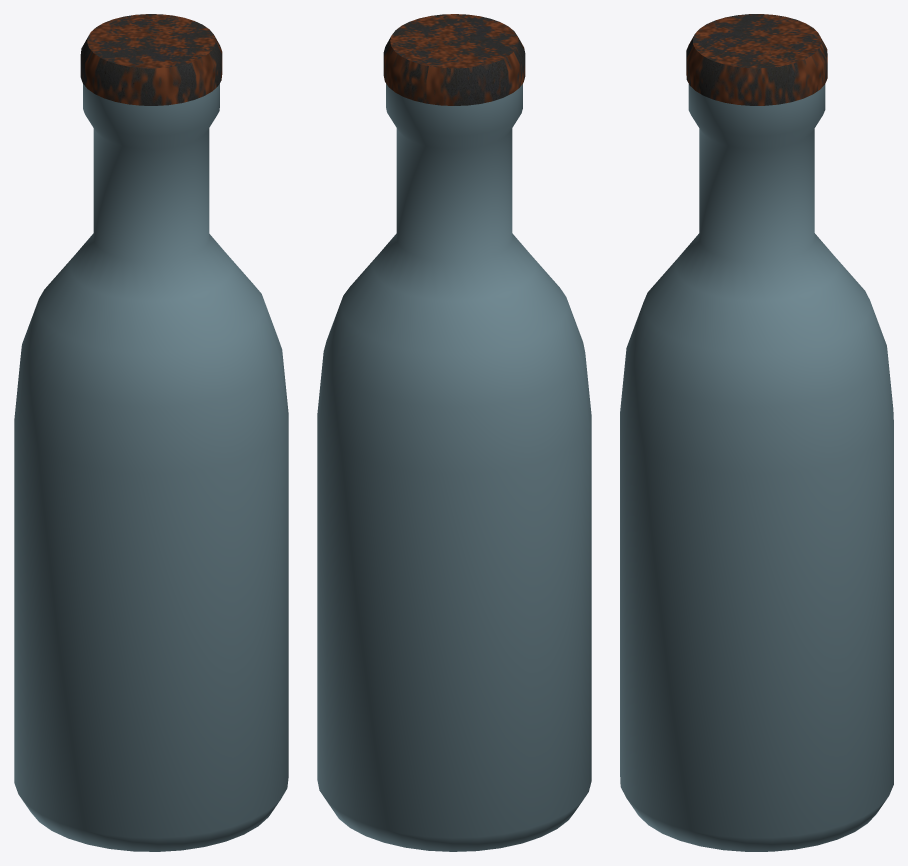
Rendered from SM_Bottle_5d5807c9f9.fbx.
3 views of the same model, side by side, from view 1: azimuth 30°, elevation 25°; view 2: azimuth 150°, elevation 25°; view 3: azimuth 270°, elevation 25° (orthographic).
Parts seen in each view (by area): view 1: SM_Bottle_5d5807c9f9; view 2: SM_Bottle_5d5807c9f9; view 3: SM_Bottle_5d5807c9f9.
Part boxes in pixels (bbox=[...]): SM_Bottle_5d5807c9f9: bbox=[14, 14, 288, 851]; SM_Bottle_5d5807c9f9: bbox=[317, 14, 591, 851]; SM_Bottle_5d5807c9f9: bbox=[620, 14, 893, 851].
Size of what is drawn, in the model's own units: 12.76 by 12.76 by 39.4.
2 materials, 1 textured.
